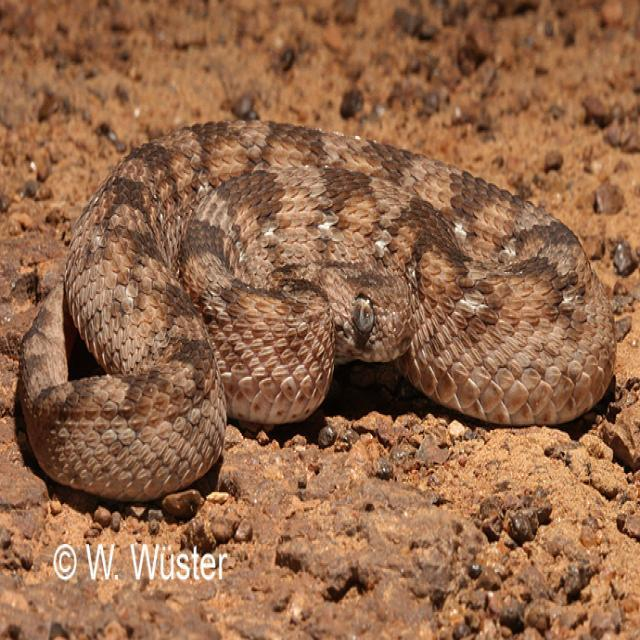Snake: (16, 116, 620, 502)
